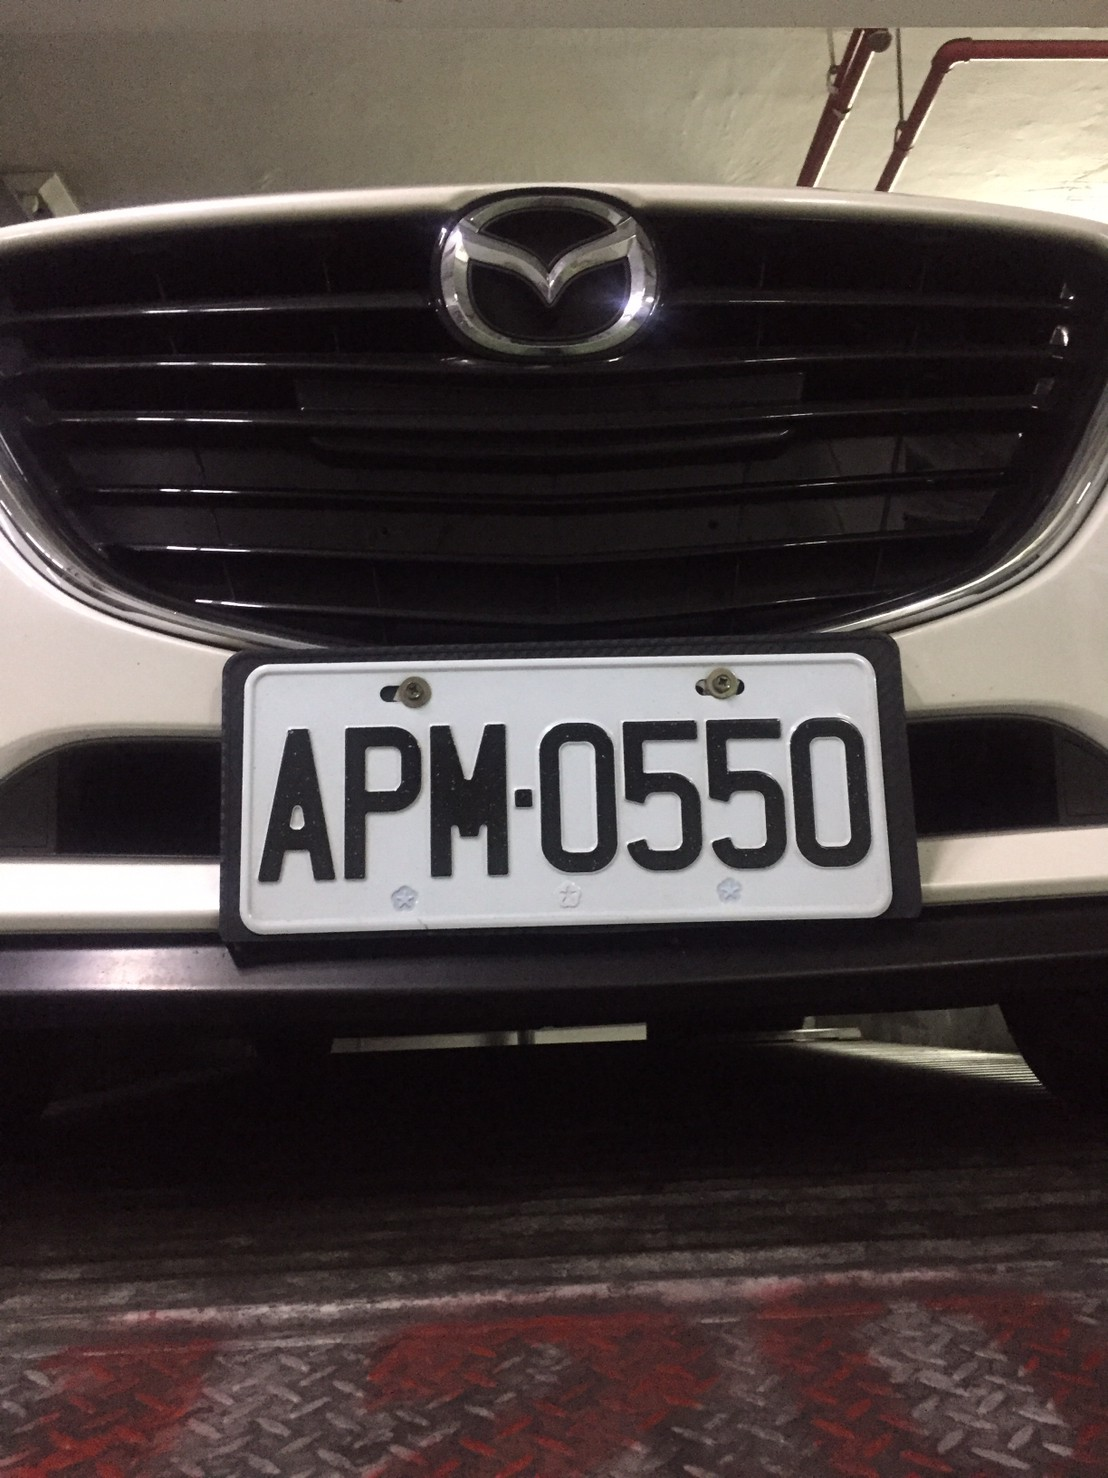LP: (242, 661, 899, 921)
